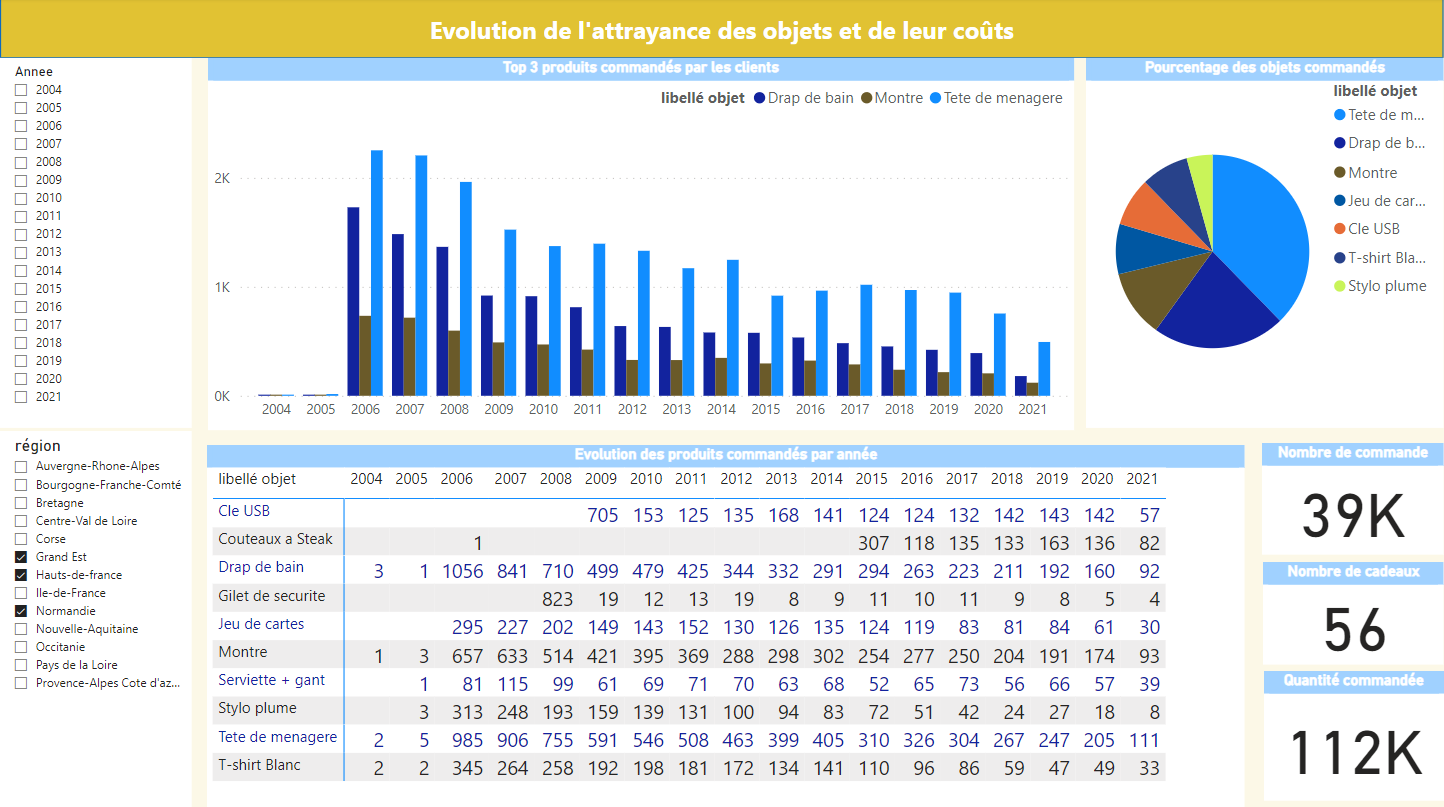

The page's visual inventory and layout, read from the dashboard file:
{"tool":"powerbi","page":{"name":"Vue objets","canvas":[1280,720],"ordinal":1},"visuals":[{"type":"slicer","fields":{"Values":["Datum.Annee"]},"box":[0,53.2,170.2,328.1],"z":0},{"type":"slicer","fields":{"Values":["dataw_fro03.Régions"]},"box":[0,383.9,170.2,336.9],"z":1000},{"type":"shape","box":[0,0,1280,53.3],"z":2000},{"type":"clusteredColumnChart","title":"Top 3 produits commandés par les clients","fields":{"Category":["Datum.Annee","dataw_fro03.libellé objet"],"Y":["Sum(dataw_fro03.quantité)"],"Series":["dataw_fro03.libellé objet"]},"box":[184.4,53.2,767.9,329.9],"z":4000},{"type":"pieChart","title":"Pourcentage des objets commandés ","fields":{"Category":["dataw_fro03.libellé objet"],"Y":["Sum(dataw_fro03.quantité)"]},"box":[963,53.2,317.4,328.1],"z":5000},{"type":"card","title":"Nombre de commande","fields":{"Values":["dataw_fro03._nombre_commande"]},"box":[1118.6,394.6,161.4,99.3],"z":6000},{"type":"card","title":"Nombre de cadeaux","fields":{"Values":["dataw_fro03.nb_objet"]},"box":[1119.5,500.1,160.5,91.3],"z":7000},{"type":"card","title":"Quantité commandée","fields":{"Values":["Sum(dataw_fro03.quantité)"]},"box":[1120.8,596.7,159.6,115.3],"z":8000},{"type":"pivotTable","title":"Evolution des produits commandés par année ","fields":{"Columns":["Datum.Annee"],"Rows":["dataw_fro03.libellé objet"],"Values":["dataw_fro03._nombre_client"]},"box":[183.5,396.4,920.4,323.6],"z":9000}]}

Visuals, with their boxes in screenshot pixels (x1, y1, x2, y2), scaled from the page's 1280x720 canvas onto the 1444x807 screenshot:
slicer - Datum.Annee: <region>0, 60, 192, 427</region>
slicer - dataw_fro03.Régions: <region>0, 430, 192, 806</region>
shape: <region>0, 0, 1443, 60</region>
"Top 3 produits commandés par les clients" clusteredColumnChart: <region>208, 60, 1074, 429</region>
"Pourcentage des objets commandés " pieChart: <region>1086, 60, 1443, 427</region>
"Nombre de commande" card: <region>1262, 442, 1443, 554</region>
"Nombre de cadeaux" card: <region>1263, 561, 1443, 663</region>
"Quantité commandée" card: <region>1264, 669, 1443, 798</region>
"Evolution des produits commandés par année " pivotTable: <region>207, 444, 1245, 806</region>
